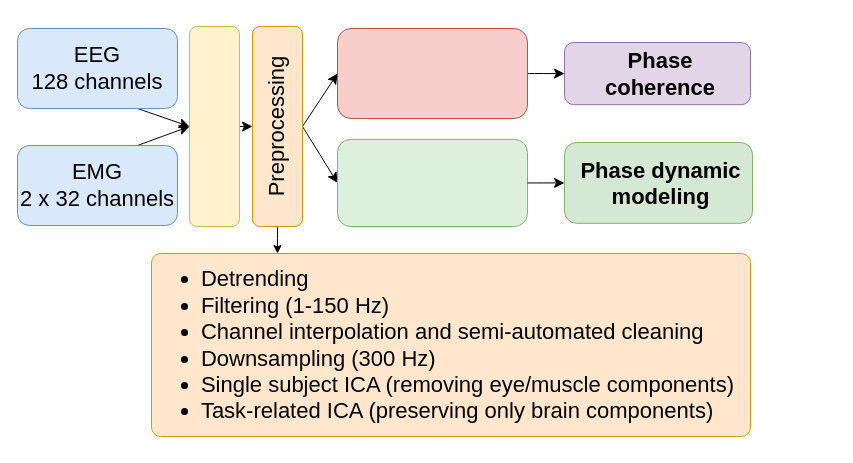
Image size: 853x463. Some labels were removed from this diagram. The centre of each missing label's shape, as x and y in pixels:
Alignment: [214,126]
Filter into frequency bands & phase extraction: [432,182]
Time-frequency transform with Morlet wavelets: [432,73]
